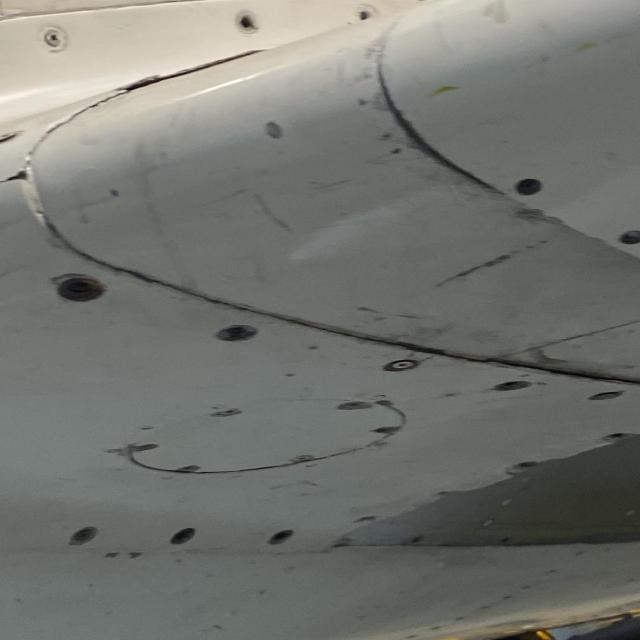Crack: (119, 74, 163, 92), (0, 164, 28, 185)
Missing-head: (52, 273, 103, 303), (215, 325, 257, 343), (514, 177, 543, 196), (493, 379, 532, 393), (168, 528, 196, 547), (236, 12, 258, 33), (267, 530, 294, 547), (589, 390, 624, 403), (619, 230, 640, 245), (356, 4, 375, 20)
Paint-off: (100, 180, 127, 200), (119, 550, 146, 565), (262, 121, 283, 139), (102, 553, 128, 563)
